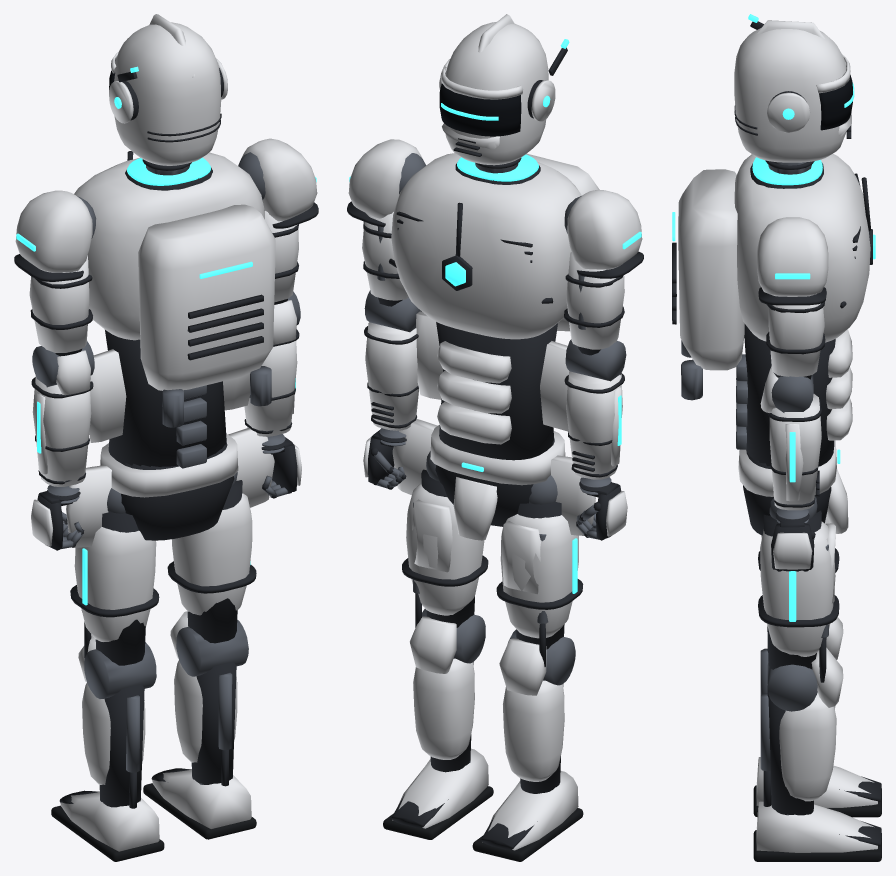
The model's file is robot_lo.glb.
The picture shows the model from 3 angles, left to right: view 1: azimuth 30°, elevation 25°; view 2: azimuth 150°, elevation 25°; view 3: azimuth 270°, elevation 25°; orthographic projection. The views are drawn at different scales.
Visible parts, largest first — view 1: torso__rx7_armor, head__rx7_armor, torso__rx7_frame, upL__rx7_armor, pelvis__rx7_armor, thighL__rx7_armor, shinR__rx7_armor, shinL__rx7_armor, thighR__rx7_armor, foreL__rx7_armor, upR__rx7_armor, torso__rx7_joint (+19 smaller); view 2: torso__rx7_armor, shinR__rx7_armor, shinL__rx7_armor, head__rx7_armor, pelvis__rx7_armor, torso__rx7_frame, upL__rx7_armor, thighL__rx7_armor, thighR__rx7_armor, upR__rx7_armor, foreL__rx7_armor, foreR__rx7_armor (+23 smaller); view 3: torso__rx7_armor, head__rx7_armor, shinR__rx7_armor, upR__rx7_armor, thighR__rx7_armor, torso__rx7_frame, foreR__rx7_armor, shinR__rx7_joint, shinR__rx7_frame, pelvis__rx7_armor, thighR__rx7_frame, shinL__rx7_armor (+12 smaller).
Part boxes in pixels (bbox=[...]): torso__rx7_armor: bbox=[74, 152, 275, 442]; head__rx7_armor: bbox=[109, 14, 227, 165]; torso__rx7_frame: bbox=[105, 151, 263, 466]; upL__rx7_armor: bbox=[15, 190, 92, 352]; pelvis__rx7_armor: bbox=[66, 428, 274, 547]; thighL__rx7_armor: bbox=[74, 527, 156, 641]; shinR__rx7_armor: bbox=[152, 611, 251, 828]; shinL__rx7_armor: bbox=[60, 635, 159, 851]; thighR__rx7_armor: bbox=[172, 493, 252, 615]; foreL__rx7_armor: bbox=[32, 350, 91, 486]; upR__rx7_armor: bbox=[241, 138, 317, 302]; torso__rx7_joint: bbox=[77, 152, 271, 468]; torso__rx7_armor: bbox=[391, 153, 599, 444]; shinR__rx7_armor: bbox=[392, 616, 488, 828]; shinL__rx7_armor: bbox=[482, 638, 578, 850]; head__rx7_armor: bbox=[439, 14, 555, 165]; pelvis__rx7_armor: bbox=[392, 419, 595, 540]; torso__rx7_frame: bbox=[389, 158, 557, 460]; upL__rx7_armor: bbox=[566, 190, 642, 349]; thighL__rx7_armor: bbox=[500, 514, 578, 638]; thighR__rx7_armor: bbox=[406, 483, 484, 615]; upR__rx7_armor: bbox=[348, 139, 421, 300]; foreL__rx7_armor: bbox=[566, 339, 622, 479]; foreR__rx7_armor: bbox=[365, 322, 418, 430]; torso__rx7_armor: bbox=[678, 154, 870, 440]; head__rx7_armor: bbox=[734, 20, 851, 162]; shinR__rx7_armor: bbox=[756, 647, 877, 852]; upR__rx7_armor: bbox=[757, 217, 828, 376]; thighR__rx7_armor: bbox=[760, 521, 835, 656]; torso__rx7_frame: bbox=[672, 160, 872, 466]; foreR__rx7_armor: bbox=[760, 366, 821, 510]; shinR__rx7_joint: bbox=[760, 662, 817, 815]; shinR__rx7_frame: bbox=[763, 685, 881, 846]; pelvis__rx7_armor: bbox=[738, 440, 848, 533]; thighR__rx7_frame: bbox=[758, 510, 839, 682]; shinL__rx7_armor: bbox=[756, 617, 877, 807].
Bounding box in the file's own units: 0.6509 × 1.78 × 0.4173.
